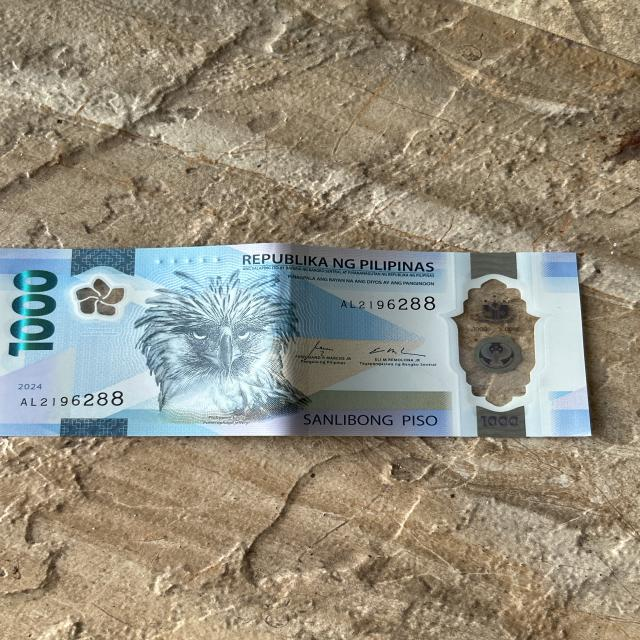clear_window: (446, 270, 543, 410)
eagle: (137, 268, 301, 424)
sampaguita: (73, 275, 124, 320)
